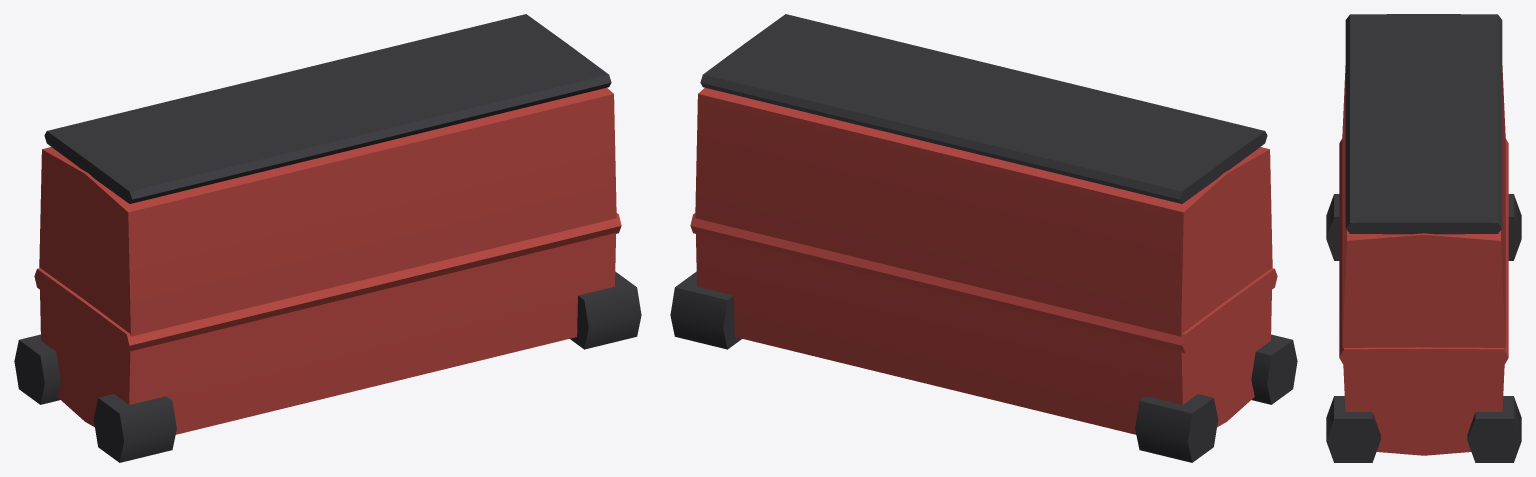
Rendered from alu_pannier_lod1.glb.
The picture shows the model from 3 angles, left to right: view 1: azimuth 30°, elevation 25°; view 2: azimuth 150°, elevation 25°; view 3: azimuth 270°, elevation 25°; orthographic projection. The views are drawn at different scales.
Visible parts, largest first — view 1: alu_pannier_lod1; view 2: alu_pannier_lod1; view 3: alu_pannier_lod1.
Part boxes in pixels (x1=…): alu_pannier_lod1: x1=14, y1=14, x2=641, y2=462; alu_pannier_lod1: x1=670, y1=14, x2=1297, y2=462; alu_pannier_lod1: x1=1326, y1=14, x2=1521, y2=462.
Bounding box in the file's own units: 0.49 × 0.2357 × 0.18.
